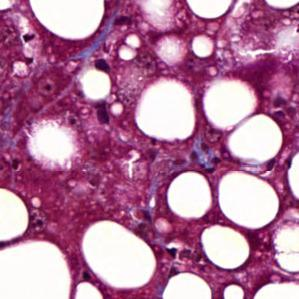steatosis: (81, 219, 157, 289), (218, 170, 279, 232), (31, 0, 105, 41), (166, 171, 213, 219), (0, 187, 29, 242), (184, 0, 235, 19)
